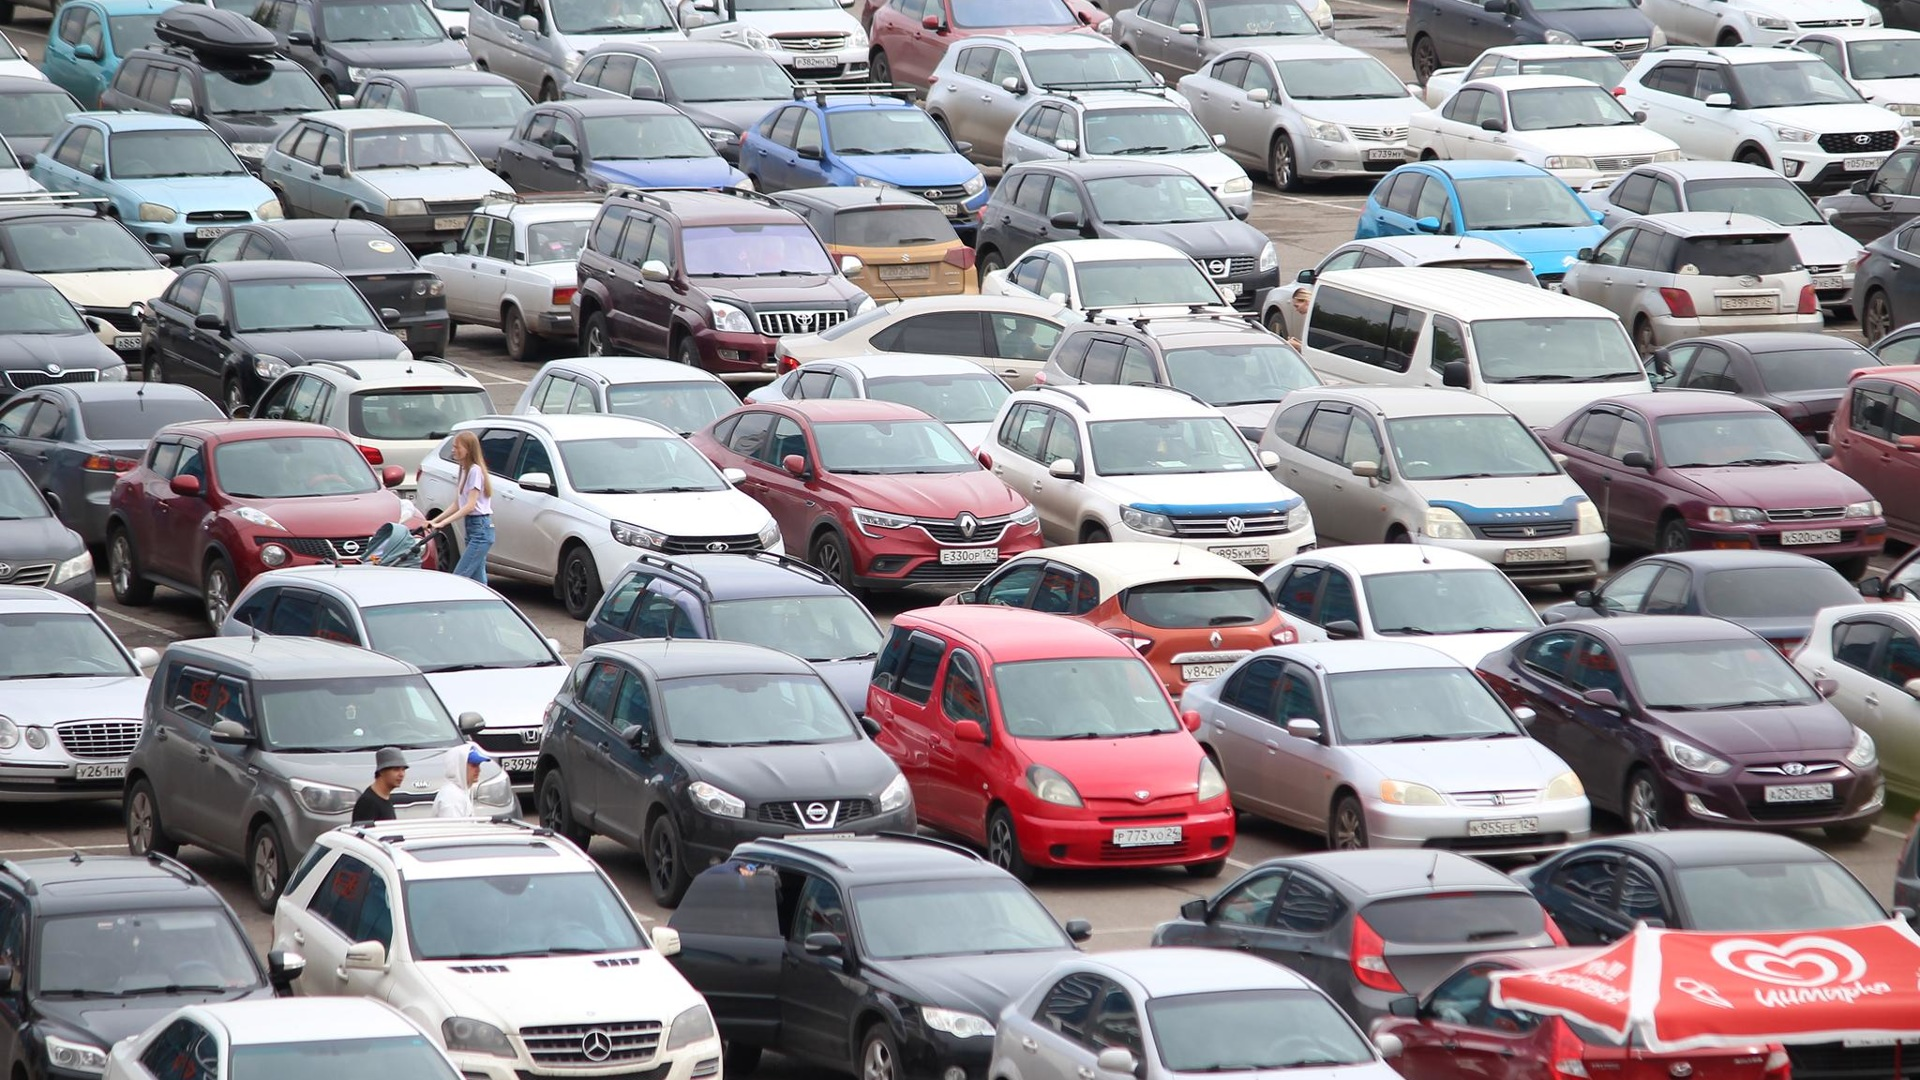Car: (272, 816, 723, 1080), (123, 634, 522, 913), (1509, 829, 1920, 1080), (533, 640, 916, 907), (671, 836, 1091, 1080), (864, 605, 1236, 878), (1474, 616, 1884, 841), (1183, 641, 1592, 858), (216, 564, 572, 798), (415, 413, 789, 621), (1151, 851, 1571, 1025), (1262, 386, 1609, 592), (687, 401, 1047, 592), (105, 419, 436, 626), (0, 855, 303, 1080), (1542, 392, 1886, 580), (981, 384, 1317, 568), (940, 543, 1295, 712), (570, 190, 878, 378), (1302, 268, 1650, 433), (1366, 948, 1791, 1080), (988, 948, 1406, 1080), (583, 554, 884, 717), (976, 158, 1279, 311), (1578, 160, 1862, 319), (1613, 47, 1913, 195), (102, 5, 356, 167), (141, 261, 414, 411), (1033, 311, 1325, 446), (1258, 545, 1567, 670), (0, 381, 228, 550), (737, 83, 990, 235), (1176, 42, 1429, 191), (33, 108, 284, 258), (179, 219, 451, 357), (1563, 211, 1822, 353), (923, 32, 1193, 166), (262, 109, 518, 251), (251, 360, 496, 504), (0, 583, 158, 802), (1547, 551, 1866, 658), (1004, 90, 1263, 218), (1356, 161, 1606, 293), (1403, 74, 1683, 191), (419, 190, 604, 361), (0, 193, 179, 367), (775, 295, 1088, 392), (1262, 236, 1543, 342), (105, 998, 463, 1080), (558, 42, 796, 164), (467, 0, 746, 100), (745, 355, 1014, 454), (1643, 334, 1876, 446), (1788, 603, 1920, 800), (766, 187, 980, 303), (498, 98, 756, 193), (253, 0, 477, 102), (1406, 0, 1668, 84), (869, 0, 1097, 92), (1110, 0, 1341, 87), (982, 240, 1236, 319), (355, 69, 537, 173), (513, 357, 746, 436), (0, 269, 131, 401), (1826, 367, 1920, 545), (44, 0, 187, 112), (0, 454, 98, 615), (1787, 26, 1920, 138), (1424, 45, 1630, 109), (1638, 0, 1884, 49), (736, 0, 869, 84), (1817, 140, 1920, 244), (1854, 219, 1920, 342), (0, 76, 86, 156), (0, 135, 58, 204), (1891, 812, 1920, 932), (1859, 547, 1920, 604), (0, 26, 50, 82), (1867, 322, 1920, 365), (1863, 0, 1920, 30), (1068, 0, 1114, 36), (427, 0, 469, 38), (0, 0, 67, 24), (181, 0, 261, 18), (1299, 0, 1335, 38), (860, 0, 882, 37)
